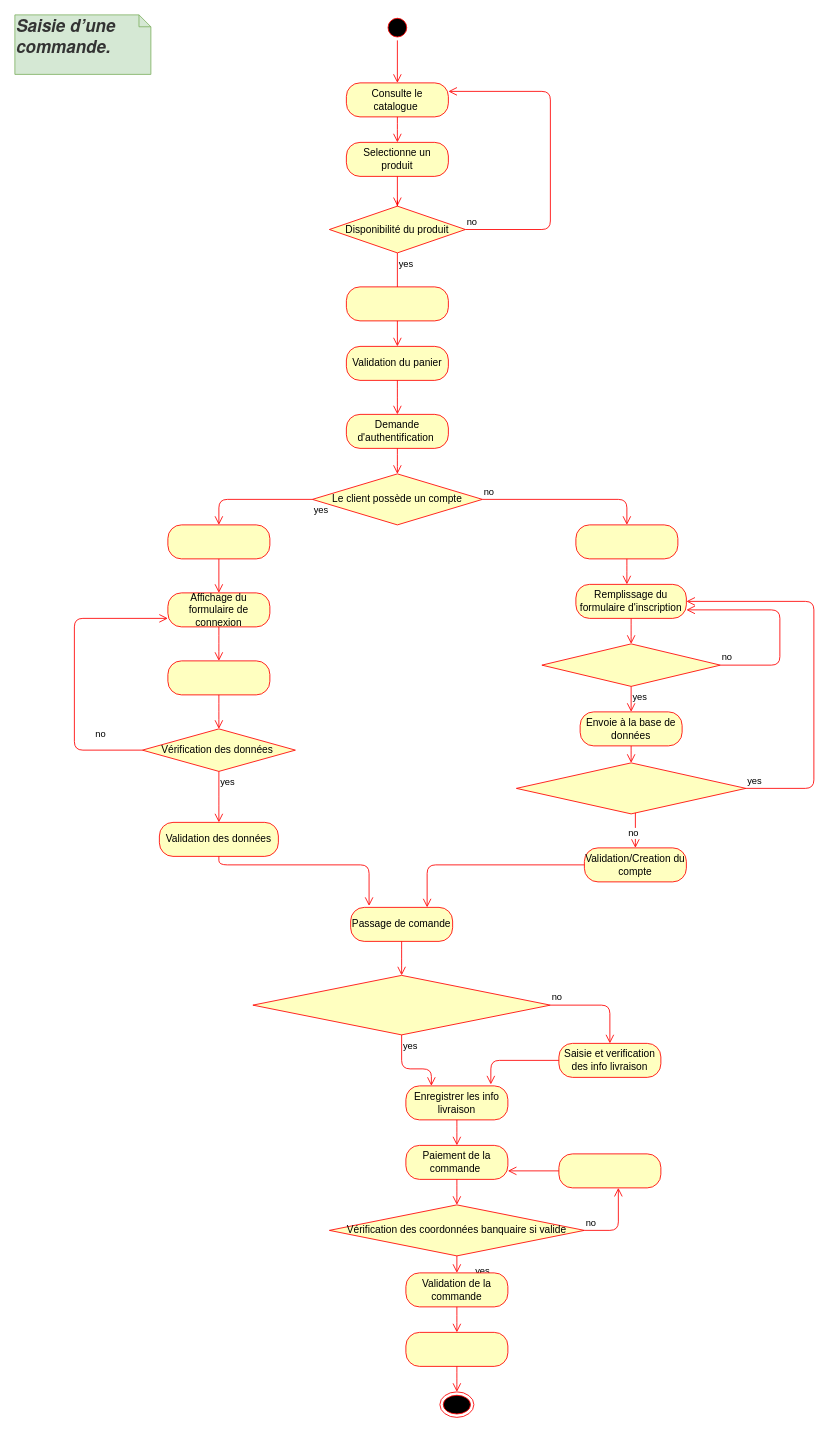
The diagram is 837 pixels wide and 1432 high, and some of its shapes have lost their labels. The shapes that lost their labels are listed below. From the top down, each one's centre as x and y in pixels, then its label:
At point 397,303: "Ajout au panier".
At point 218,541: "Demande de connexion".
At point 626,541: "Demande d'inscription".
At point 218,677: "Remplissage du formulaire de connexion".
At point 630,664: "Validation des données saisies".
At point 631,788: "Vérification si les données existent".
At point 401,1005: "Demande de vérification des informations sur la livraison".
At point 609,1170: "Message d'erreur".
At point 456,1349: "Informer le client(Récap, mail, facture)".
